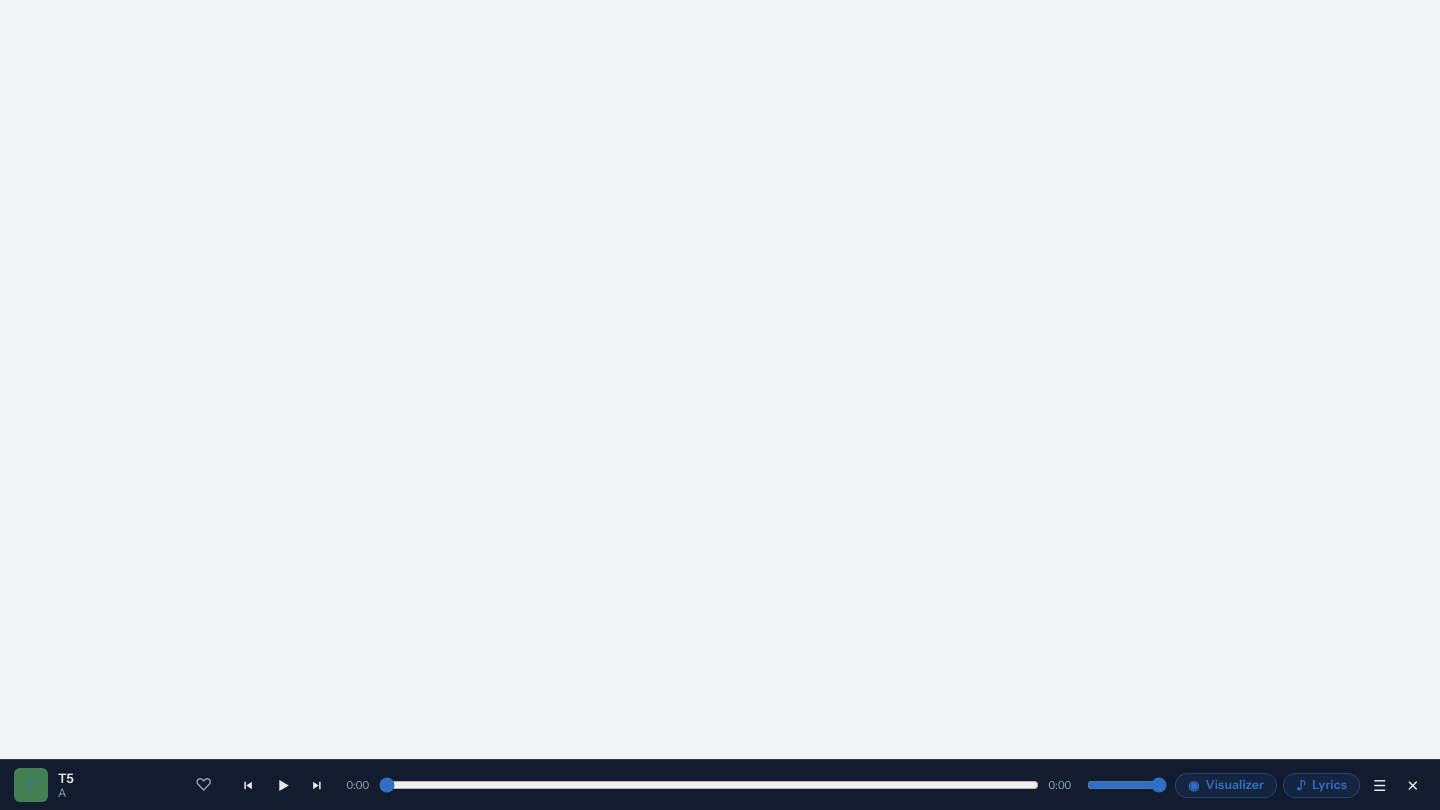
Test: shuffling the queue from the bar › is disabled when fewer than two tracks are still ahead
Click the button named "Queue": (1380, 785) top-left (1366, 774), bottom-right (1394, 796)
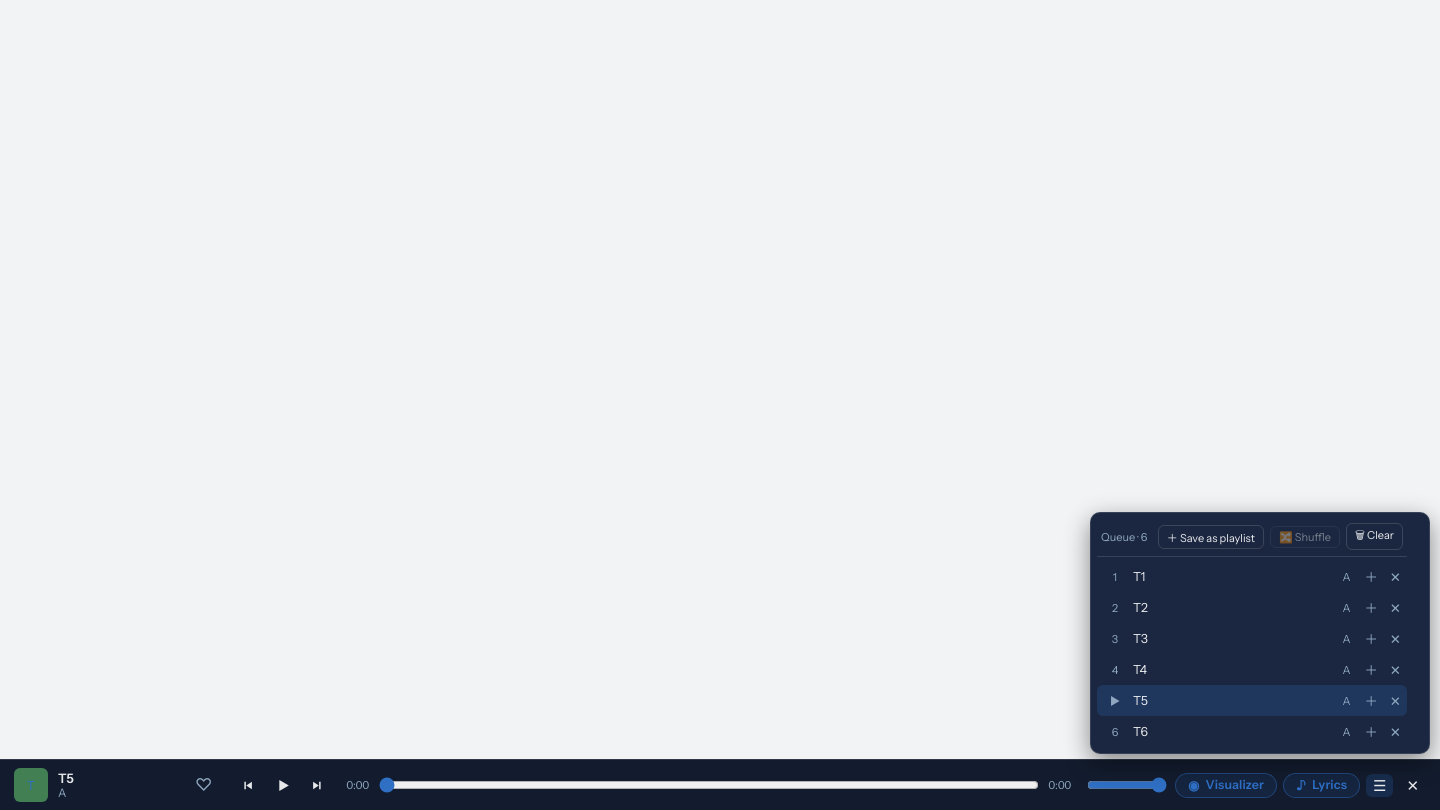
Check: the button with test id "music-queue-shuffle" is disabled, box top-left (1270, 526), bottom-right (1340, 548)
